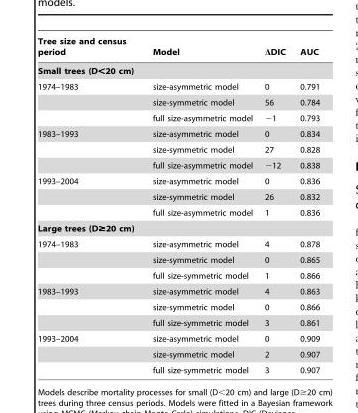table: (37, 36, 319, 374)
table column: (138, 36, 258, 374), (37, 36, 138, 374), (258, 36, 292, 374), (292, 36, 319, 374)
table column header: (37, 36, 319, 61)
table projected row header: (37, 61, 319, 78), (37, 220, 319, 236)
table row: (37, 36, 319, 61), (37, 61, 319, 78), (37, 78, 319, 94), (37, 109, 319, 125), (37, 125, 319, 141), (37, 141, 319, 157), (37, 157, 319, 173), (37, 188, 319, 204), (37, 204, 319, 220), (37, 220, 319, 236), (37, 251, 319, 267), (37, 267, 319, 283), (37, 283, 319, 299), (37, 314, 319, 330), (37, 330, 319, 346), (37, 346, 319, 362), (37, 94, 319, 109), (37, 173, 319, 188), (37, 236, 319, 251), (37, 299, 319, 314), (37, 362, 319, 374)
table spanning cell: (37, 125, 138, 173), (37, 78, 138, 125), (37, 173, 138, 220), (37, 236, 138, 283), (37, 283, 138, 330), (37, 330, 138, 374)
